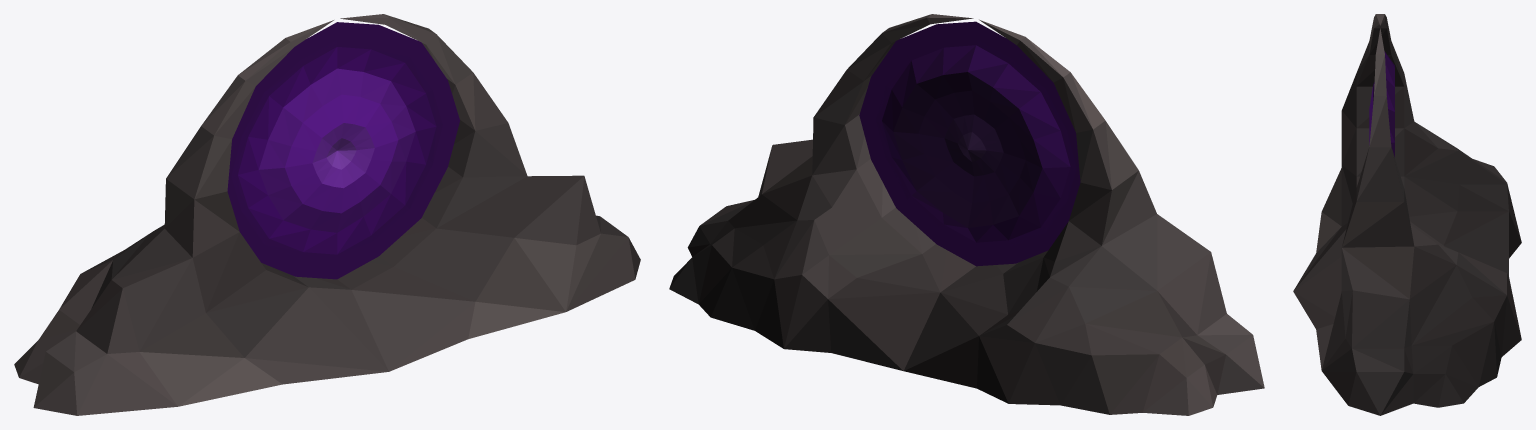
File: portal.obj
3 views of the same model, side by side, from view 1: azimuth 30°, elevation 25°; view 2: azimuth 150°, elevation 25°; view 3: azimuth 270°, elevation 25° (orthographic). The views are drawn at different scales.
Parts seen in each view (by area): view 1: portal; view 2: portal; view 3: portal.
Boxes of the visible parts, <box> form: portal: <box>14,14,640,415</box>; portal: <box>669,14,1264,415</box>; portal: <box>1293,14,1521,415</box>.
Size of the model in its own units: 642 by 318 by 249.
